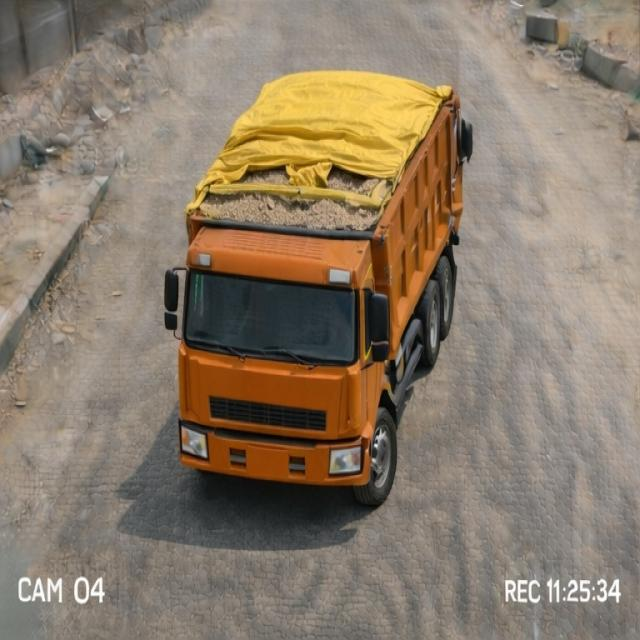trailer: (185, 70, 478, 235)
truck: (162, 46, 490, 505)
